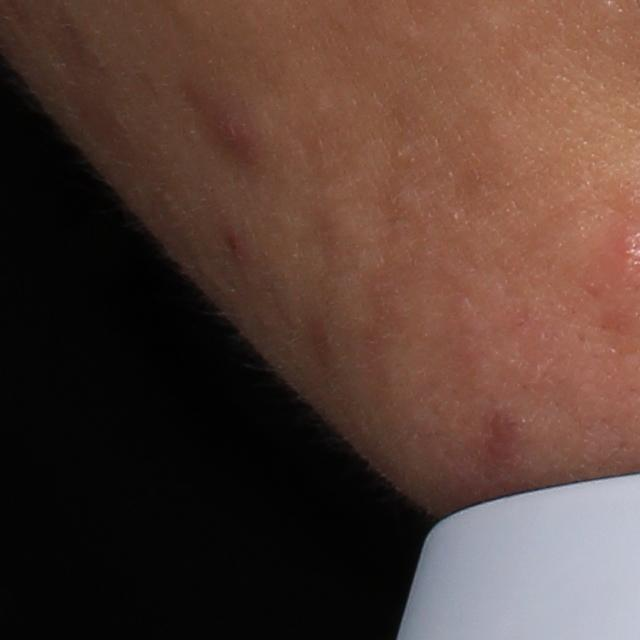papule: (208, 110, 263, 163)
